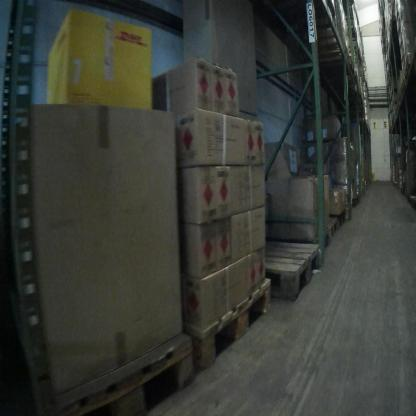pallet: (45, 329, 198, 414), (192, 271, 276, 372), (233, 239, 321, 312), (304, 31, 349, 67), (291, 1, 341, 31), (304, 58, 356, 76), (319, 70, 359, 89), (335, 91, 366, 113), (328, 207, 347, 240), (339, 194, 361, 218), (403, 53, 415, 80), (401, 72, 414, 96), (328, 215, 338, 245), (399, 96, 412, 112), (407, 196, 416, 211), (401, 185, 406, 197)
